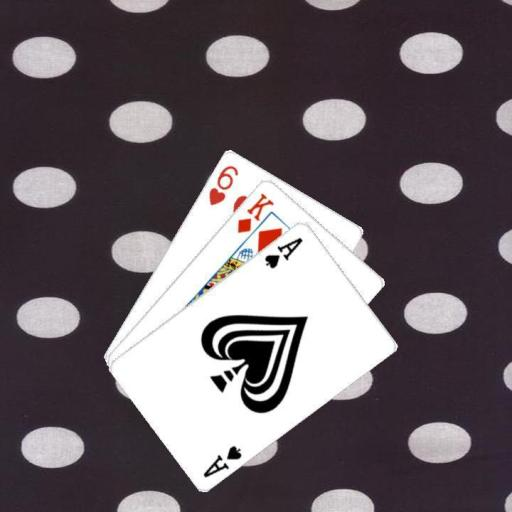card-corner: (233, 189, 276, 235), (204, 161, 240, 207), (261, 233, 304, 270), (200, 442, 244, 478)
